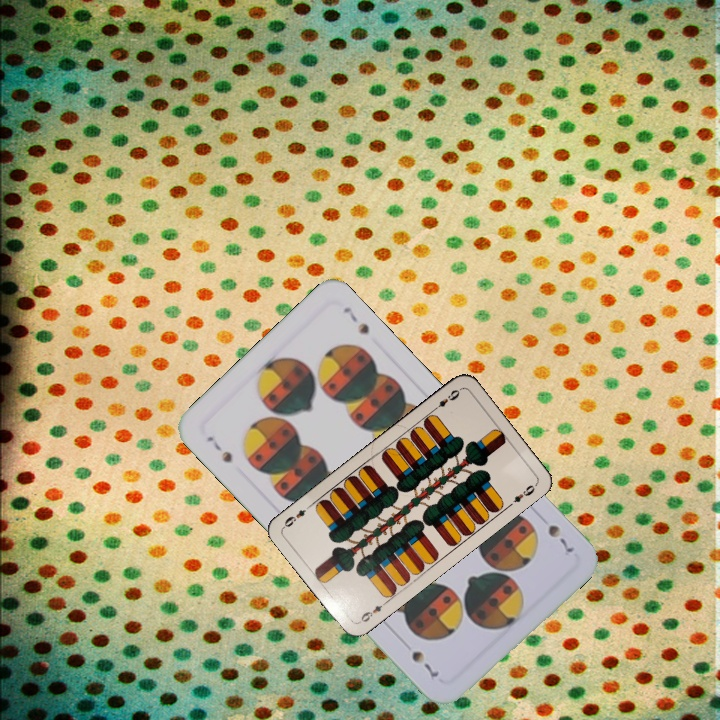E9: (428, 385, 464, 414), (355, 601, 385, 626)
S7: (543, 520, 576, 558), (202, 432, 235, 466)
